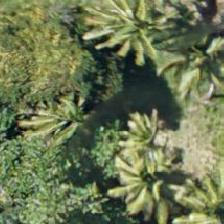coconut_tree: (93, 116, 183, 206), (153, 4, 223, 94), (90, 0, 180, 61), (168, 169, 223, 223)
